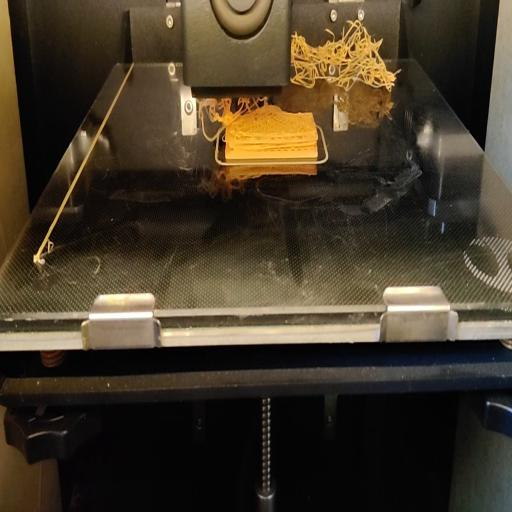spaghetti: (290, 22, 400, 97), (196, 98, 269, 122)
